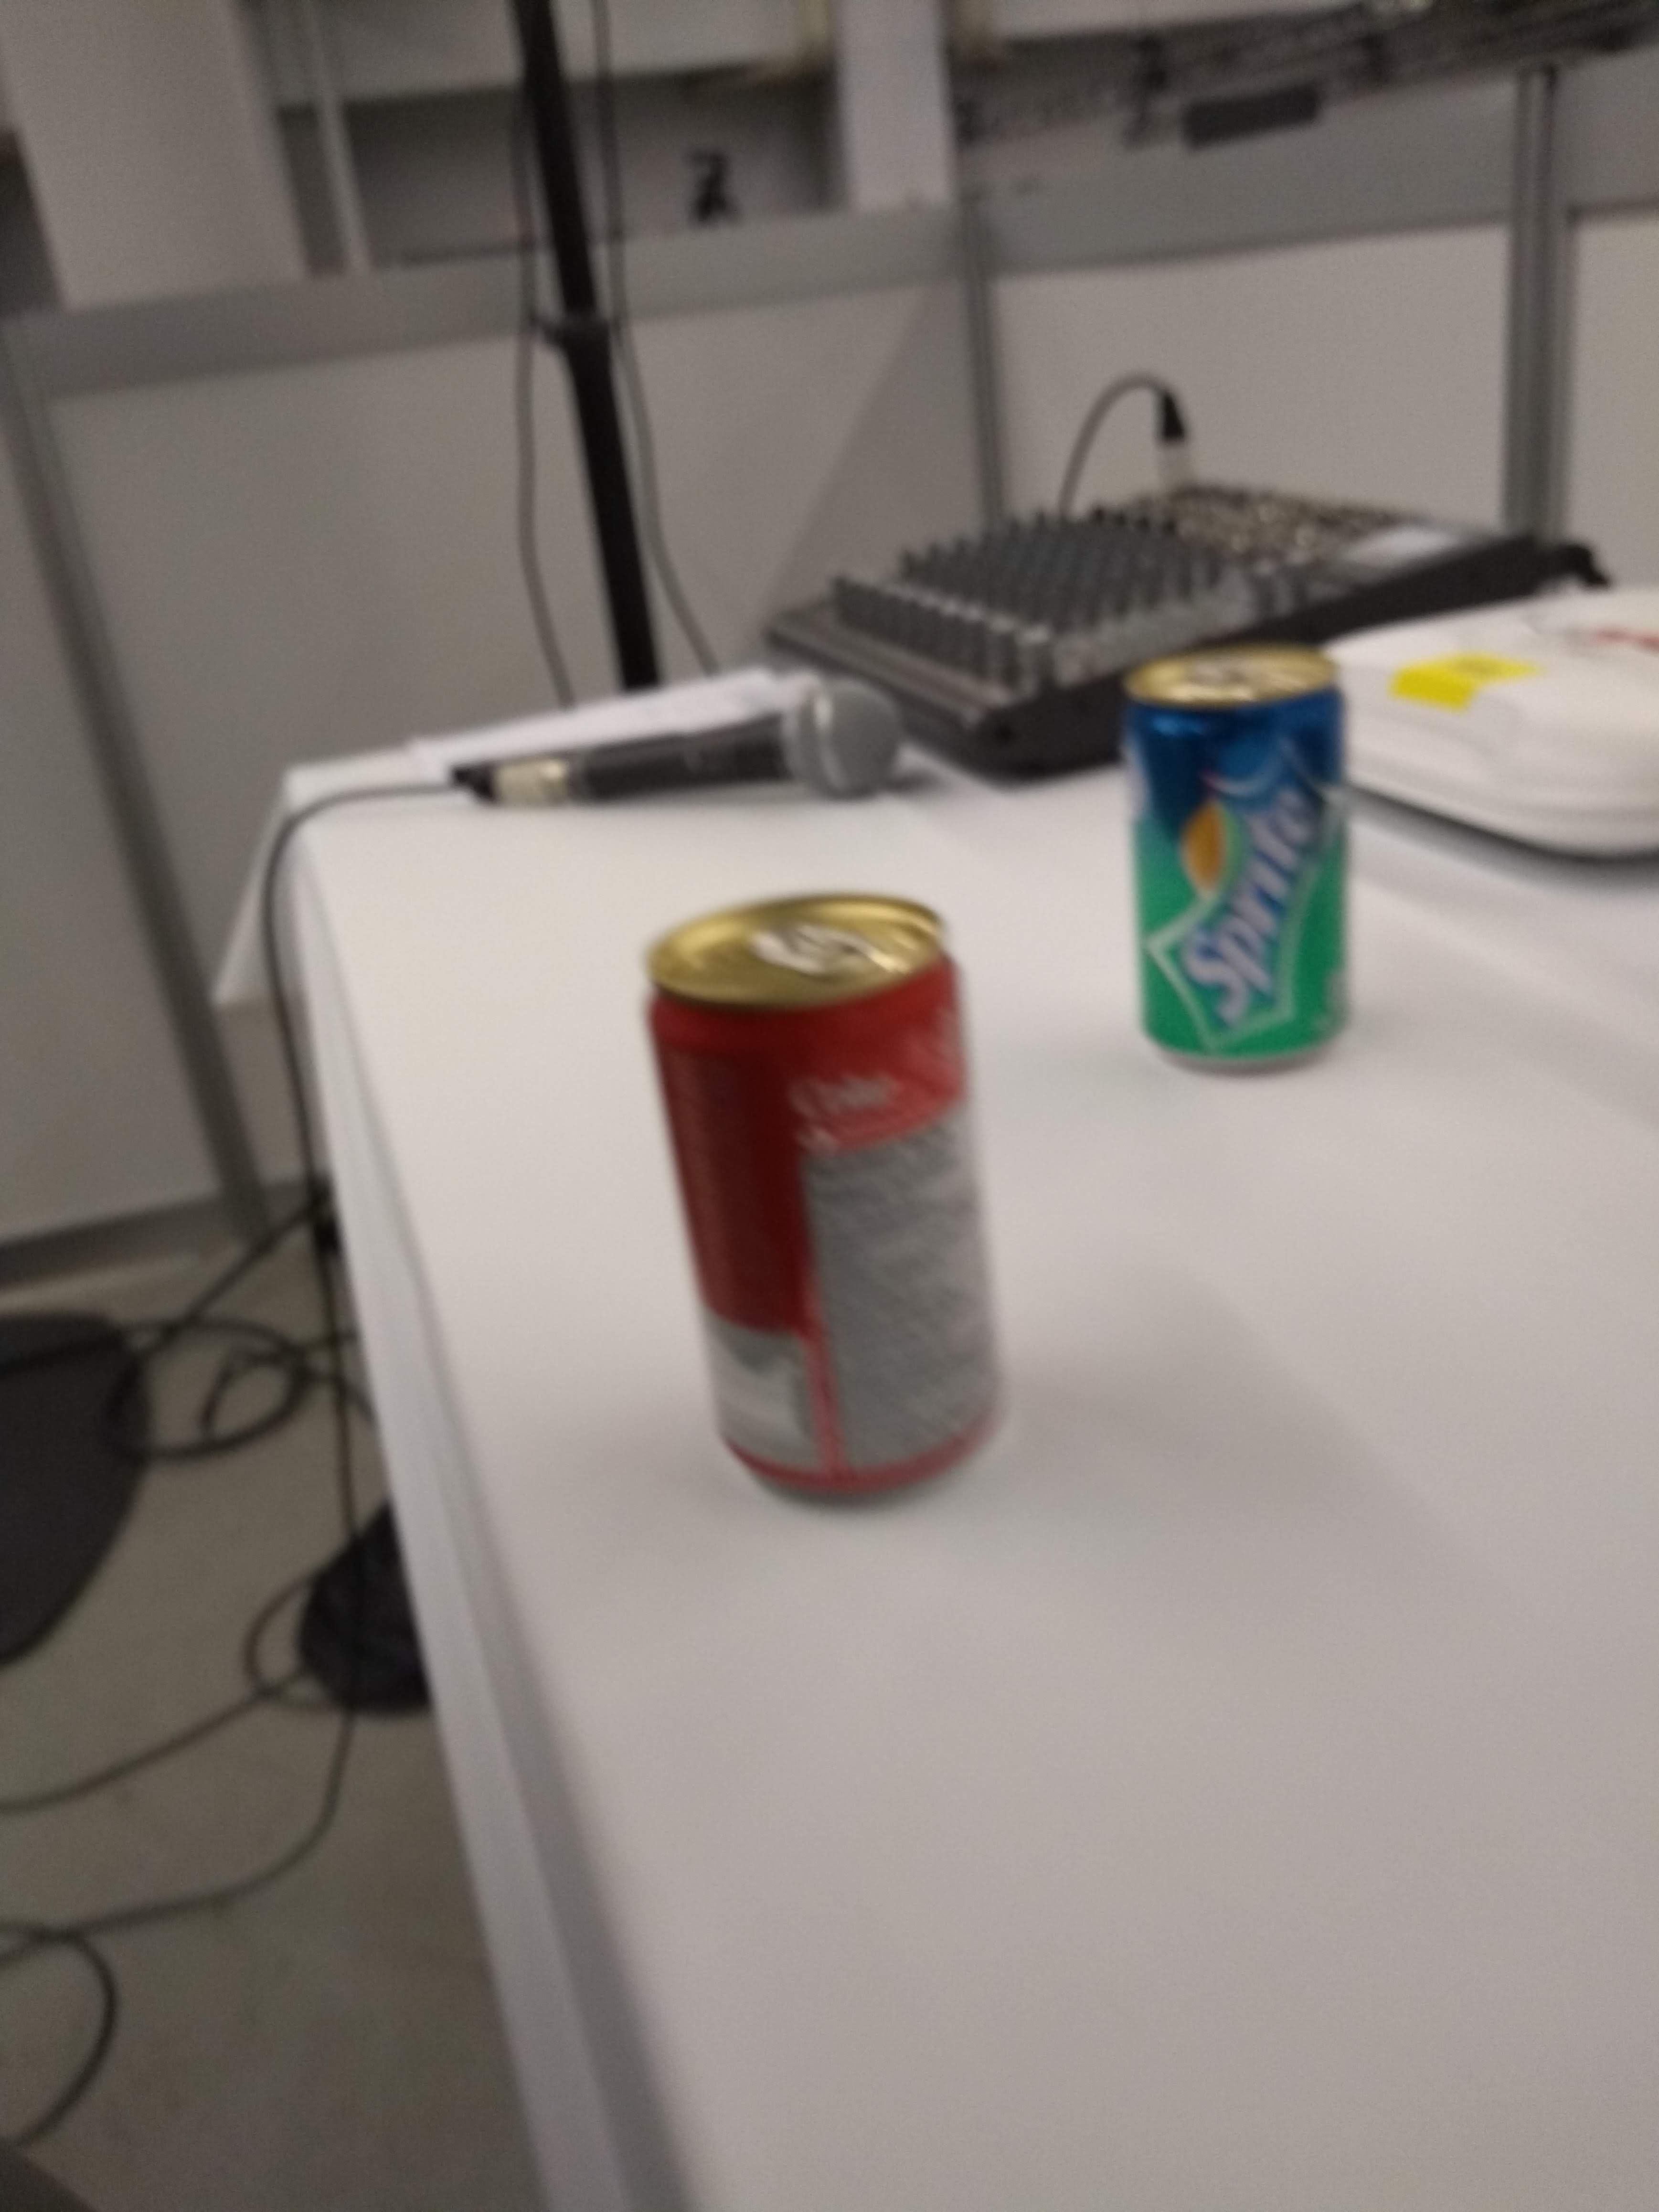coke: (622, 869, 1035, 1527)
sprite: (1107, 634, 1363, 1080)
